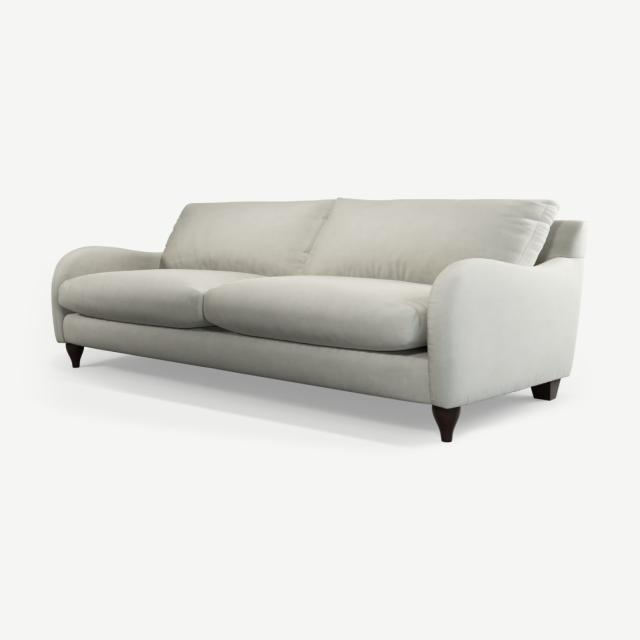Soffa: (47, 195, 587, 441)
